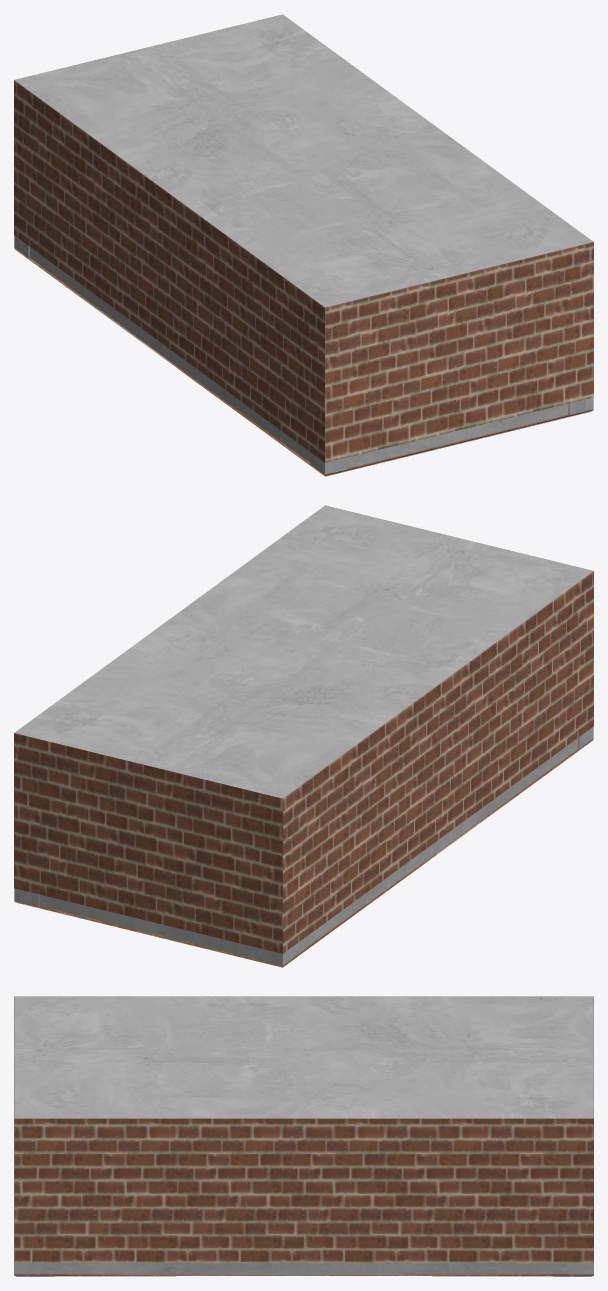
Rendered from ballingHouse.fbx.
3 views of the same model, one above another, from view 1: azimuth 30°, elevation 25°; view 2: azimuth 150°, elevation 25°; view 3: azimuth 270°, elevation 25° (orthographic). The views are drawn at different scales.
Visible parts, largest first — view 1: house; view 2: house; view 3: house.
Boxes of the visible parts, bbox=[...] form: house: bbox=[14, 14, 593, 476]; house: bbox=[14, 505, 593, 967]; house: bbox=[14, 996, 593, 1276].
Bounding box in the file's own units: 10 × 20.04 × 6.05.
1 material, 1 textured.
